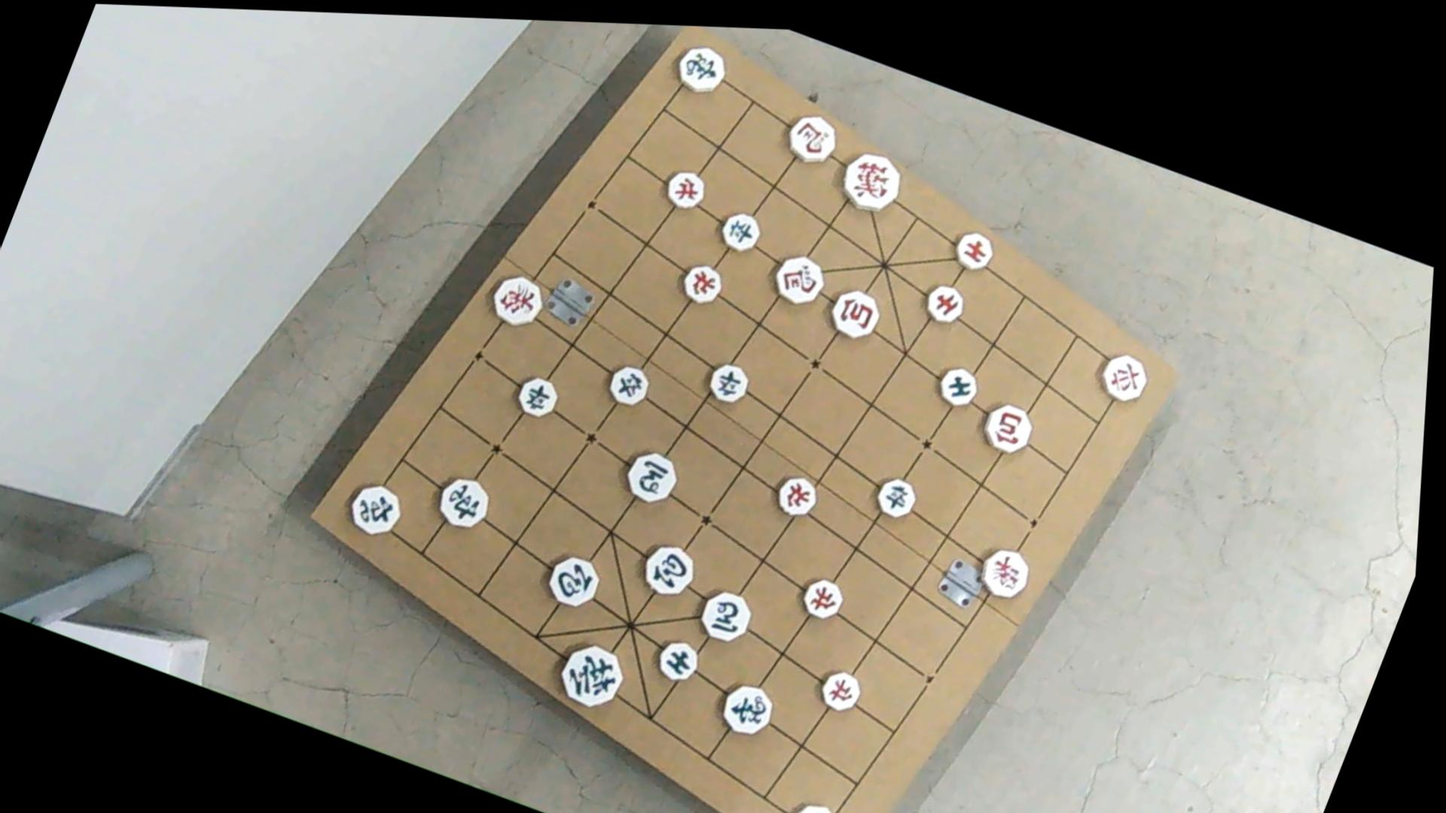cha_green: (339, 477, 405, 541), (432, 473, 496, 535)
cha_red: (1094, 349, 1153, 407), (781, 798, 844, 813)
jol_green: (602, 360, 653, 410), (511, 375, 562, 425), (872, 475, 921, 524), (703, 360, 752, 408), (715, 209, 764, 254)
jol_red: (770, 473, 822, 523), (795, 574, 845, 623), (662, 166, 712, 214), (673, 260, 724, 307), (816, 668, 864, 717)
ma_green: (618, 447, 682, 510), (691, 583, 755, 645)
ma_red: (780, 108, 843, 168), (767, 250, 830, 309)
po_green: (633, 537, 698, 600), (541, 551, 603, 613)
po_red: (978, 398, 1040, 458), (823, 285, 885, 344)
sa_green: (932, 361, 982, 412), (653, 636, 703, 686)
sa_red: (946, 224, 997, 274), (921, 281, 971, 327)
sang_green: (715, 678, 779, 741), (672, 40, 735, 100)
sang_red: (482, 270, 546, 332), (973, 544, 1035, 604)
wang_green: (553, 639, 630, 715)
wang_red: (835, 147, 909, 218)
